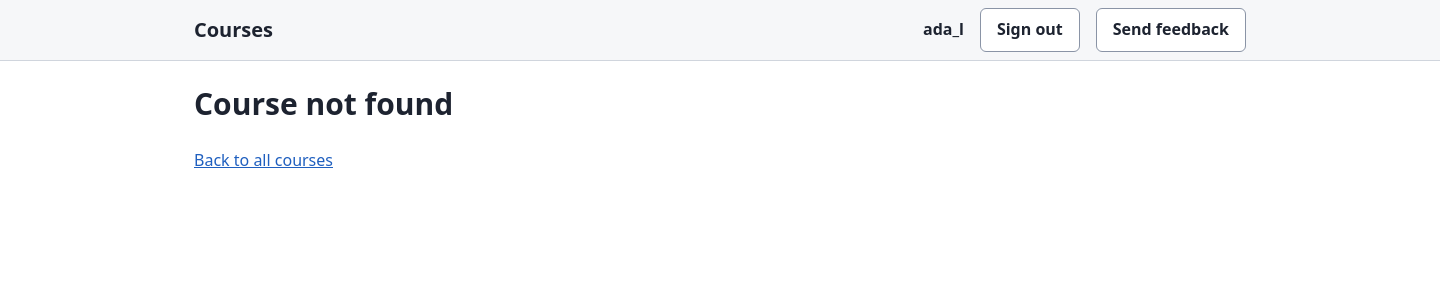
Scenario: keeps the learner signed in and shows a banner when sign-out fails with an HTML 502
This screenshot has width=1440, height=304.
Click the button "Sign out". click: (1030, 30)
box: [980,8,1080,52]
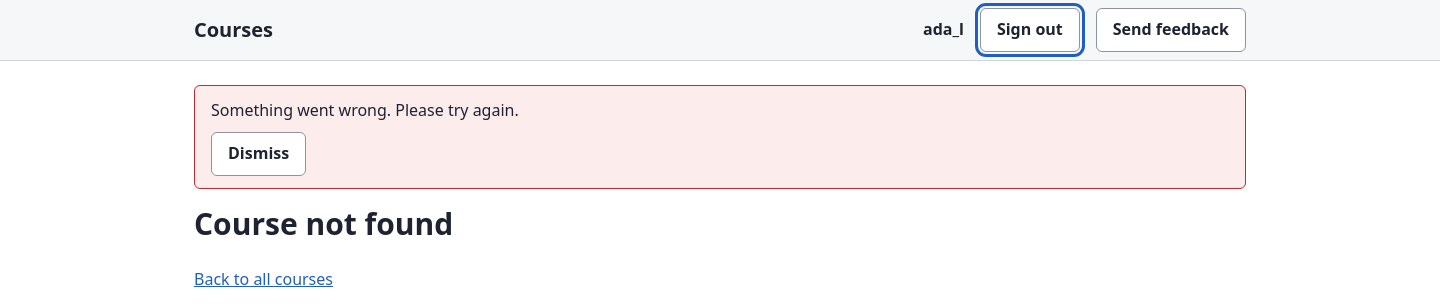
Expected: the text "ada_l" is shown, [923,17,964,43]
Expected: the text "Something went wrong. Please try again." is shown, [211,99,519,121]
